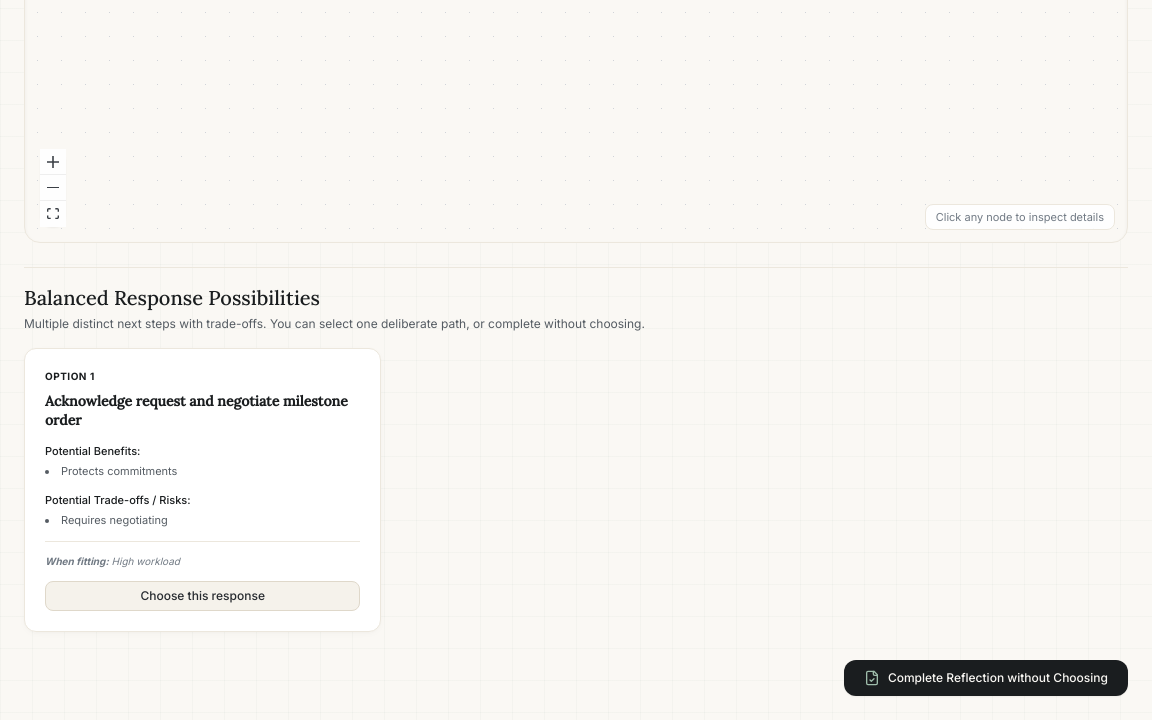
Scenario: Presenter Navigation and Keyboard Ergonomics › supports completing a reflection without selecting an option
This screenshot has width=1152, height=720.
(page scrolled)
Click the button "Complete Reflection without Choosing".
click(986, 678)  # box 844,660 -> 1128,696
(page scrolled)
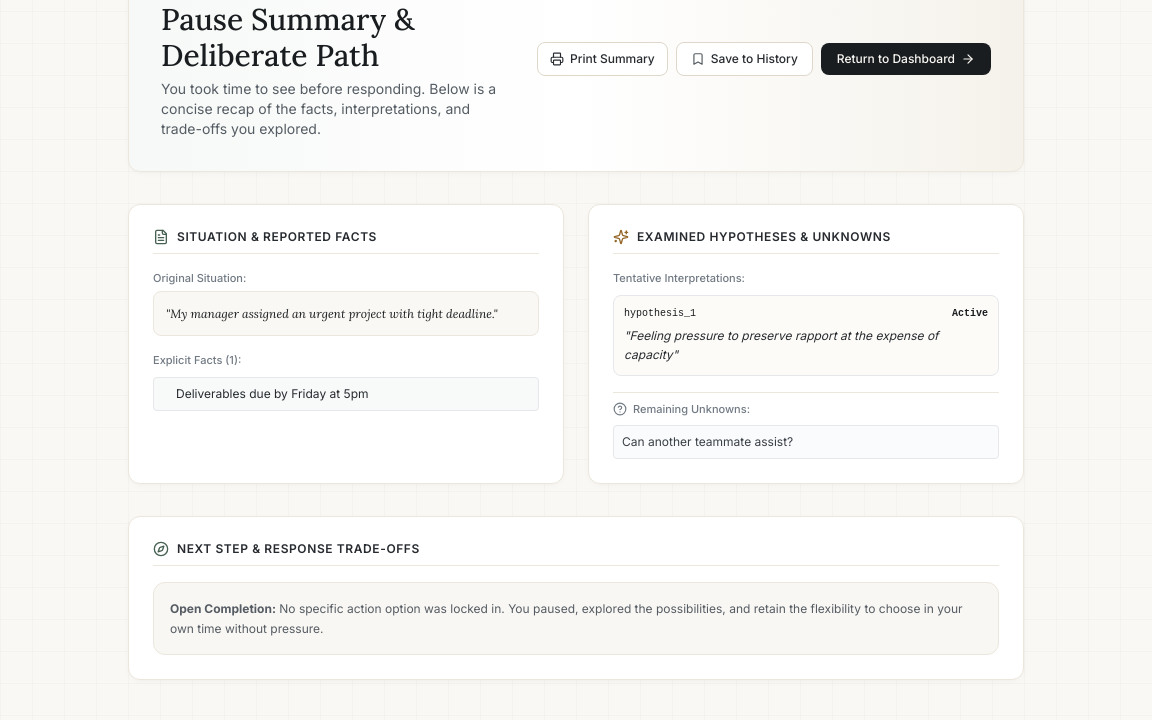
Expected: the heading "Pause Summary & Deliberate Path" is shown, 161,0 -> 415,74
Expected: the text "Open Completion:" is shown, 170,601 -> 276,616
